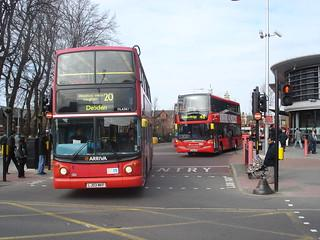bus: (54, 46, 154, 197), (173, 93, 244, 159)
